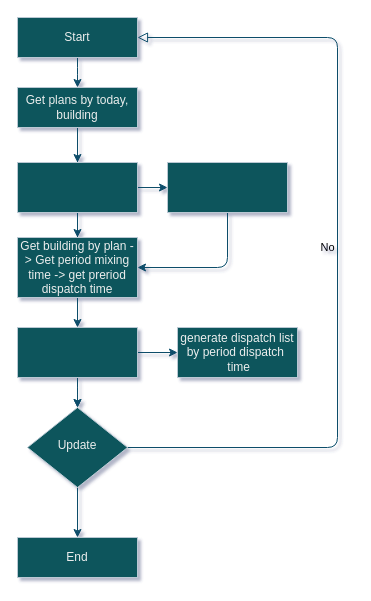
Image size: 371x601. Some labels were removed from this diagram. The shapes that lost their labels are listed below. From the top down, each one's box as (x1, y1, x2, y2) in pixels, then its label:
(16, 162, 138, 212): Get multiple glues to create to do list
(166, 162, 288, 212): Get single glues to create to dispatch list
(16, 326, 138, 378): generate todo by mixing period time
